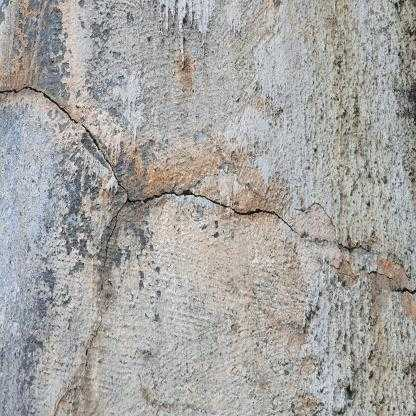crack: (0, 81, 300, 380)
